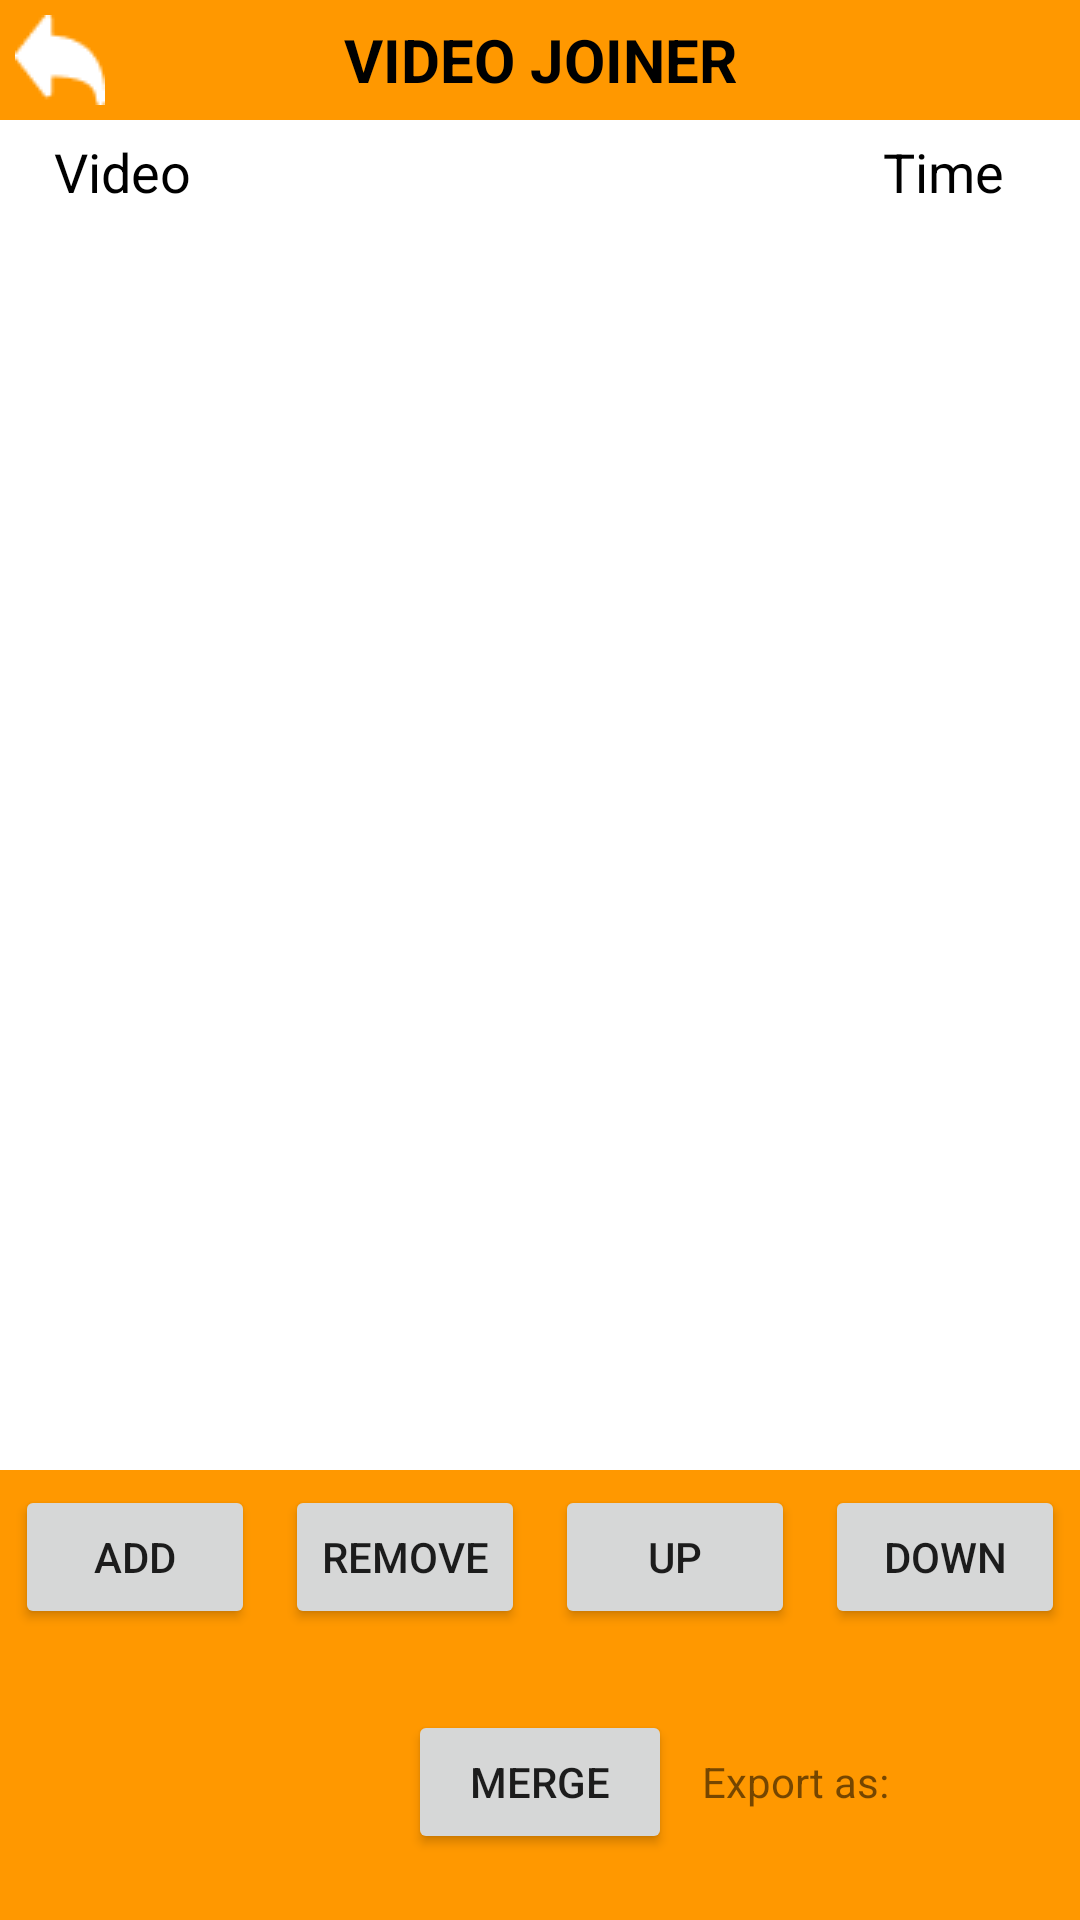

Icons on this 1080w x 1920h Android screen, each with the point to tap as [x,y]:
back: [60,60]
